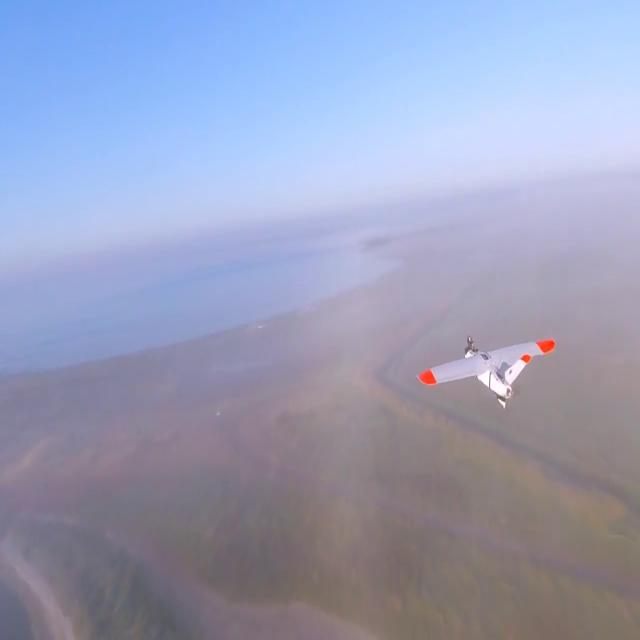iha: (420, 369, 554, 382)
